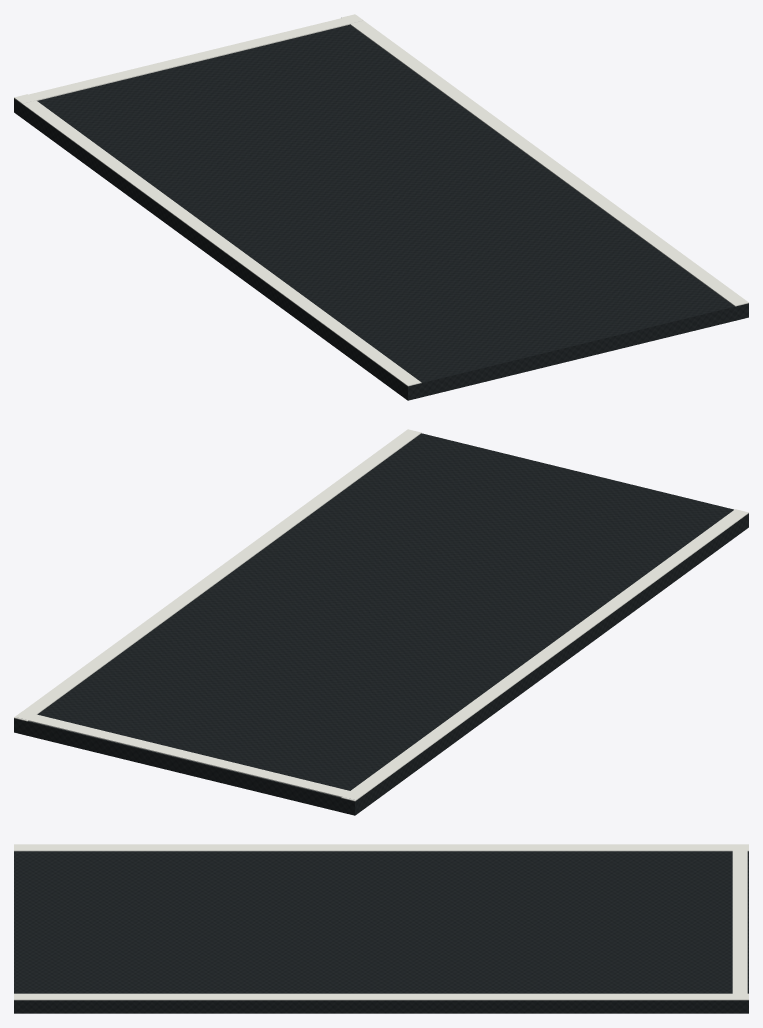
The model's file is OAA_Parking_Bay_2p5x5m.fbx.
The picture shows the model from 3 angles, top to bottom: view 1: azimuth 30°, elevation 25°; view 2: azimuth 150°, elevation 25°; view 3: azimuth 270°, elevation 25°; orthographic projection. The views are drawn at different scales.
Visible parts, largest first — view 1: Body; view 2: Body; view 3: Body.
Part boxes in pixels (x1,y1,x2,y2): Body: (14,14,748,400); Body: (14,429,748,815); Body: (14,844,748,1013).
Bounding box in the file's own units: 2.5 × 0.106 × 5.
